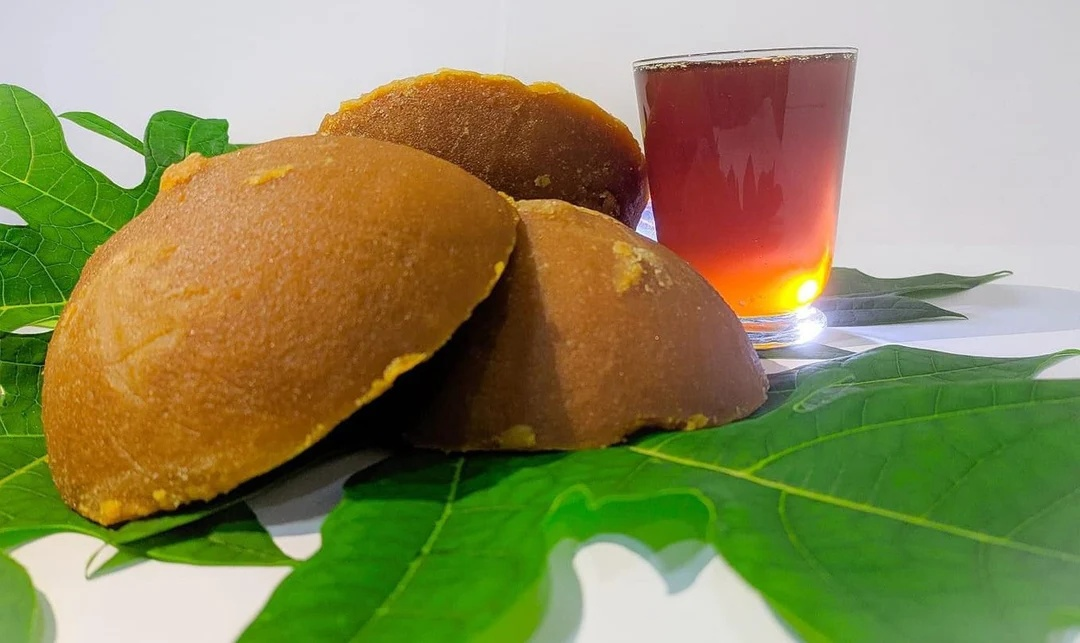hakuru: (36, 127, 523, 527), (418, 192, 771, 457)
